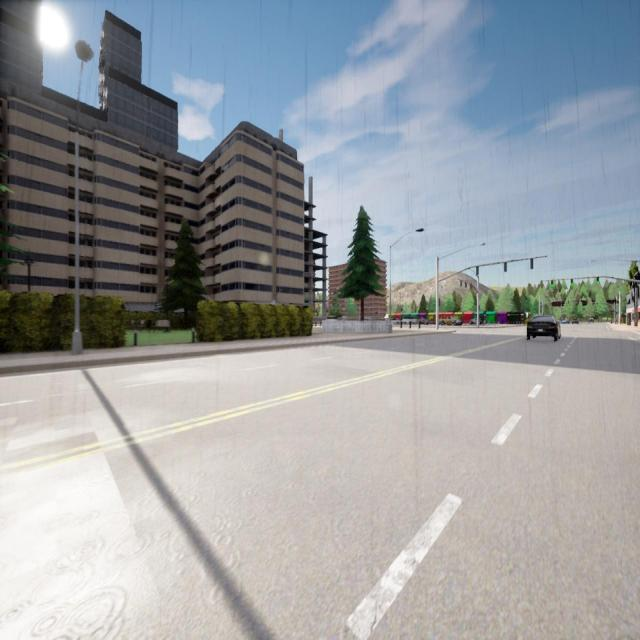Vehicle: (526, 315, 560, 340), (401, 315, 420, 328), (439, 316, 452, 326), (470, 318, 482, 325), (452, 317, 461, 325), (424, 319, 435, 325), (572, 319, 578, 324), (562, 320, 569, 324), (589, 318, 594, 323)
traffic_light: (504, 262, 507, 272), (596, 277, 599, 284), (476, 267, 479, 274), (531, 258, 533, 268), (551, 280, 553, 286), (571, 279, 573, 285), (460, 281, 462, 286), (439, 298, 440, 307), (618, 312, 620, 316), (465, 282, 466, 288), (470, 284, 471, 289)
